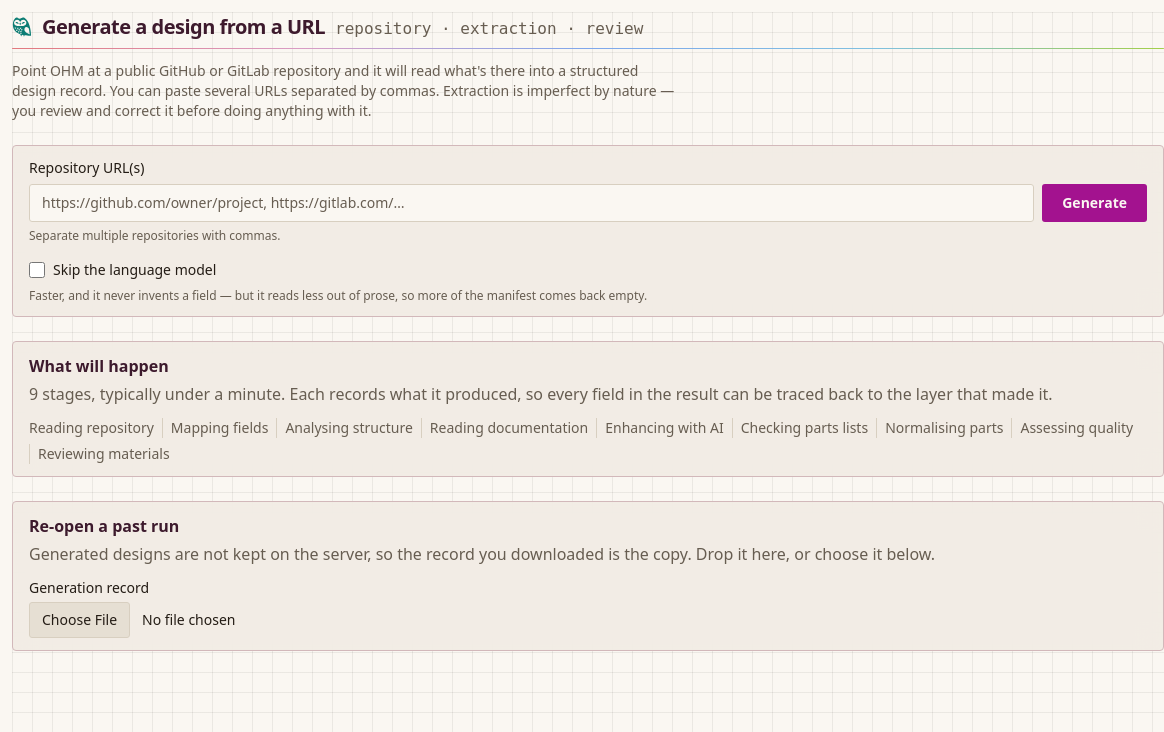
Test: GenerateView — before a run › drops the model stage from the plan when the run will skip it
Click the checkbox labelled "Skip the language model" at (37, 270), box top-left (29, 262), bottom-right (45, 278)
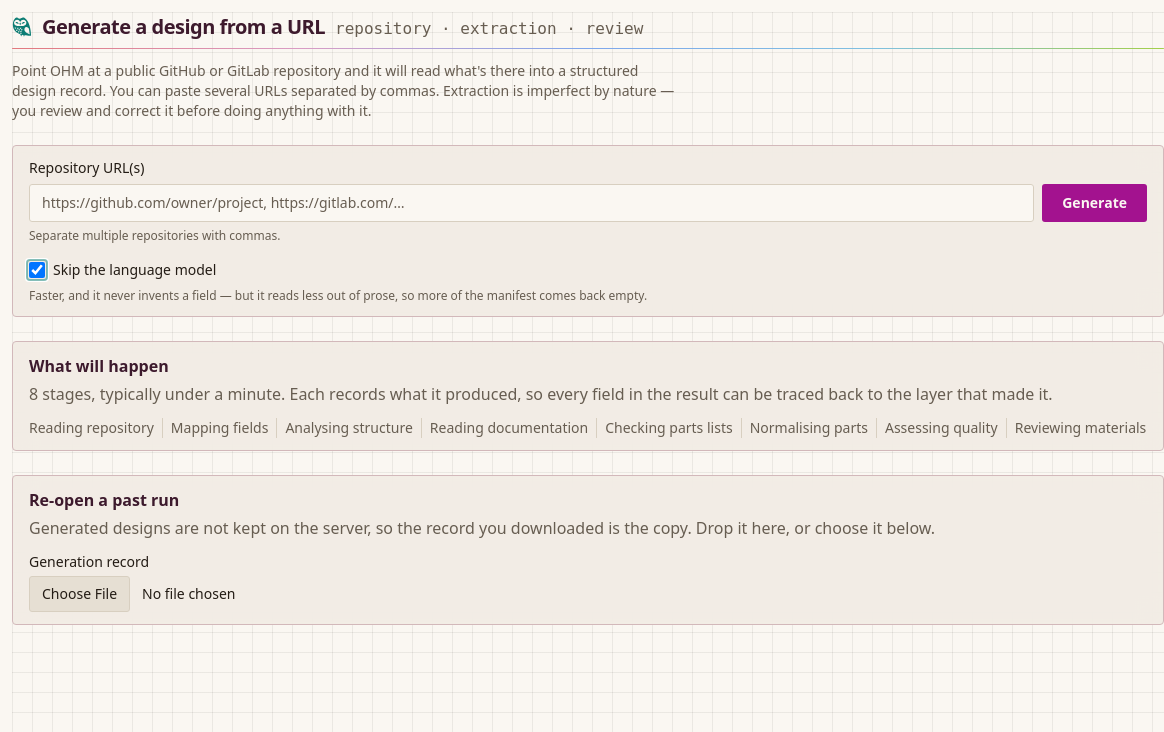
Check: the list item "Reading repository" is shown, box top-left (29, 418), bottom-right (154, 438)
Check: the list item "Enhancing with AI" is gone
